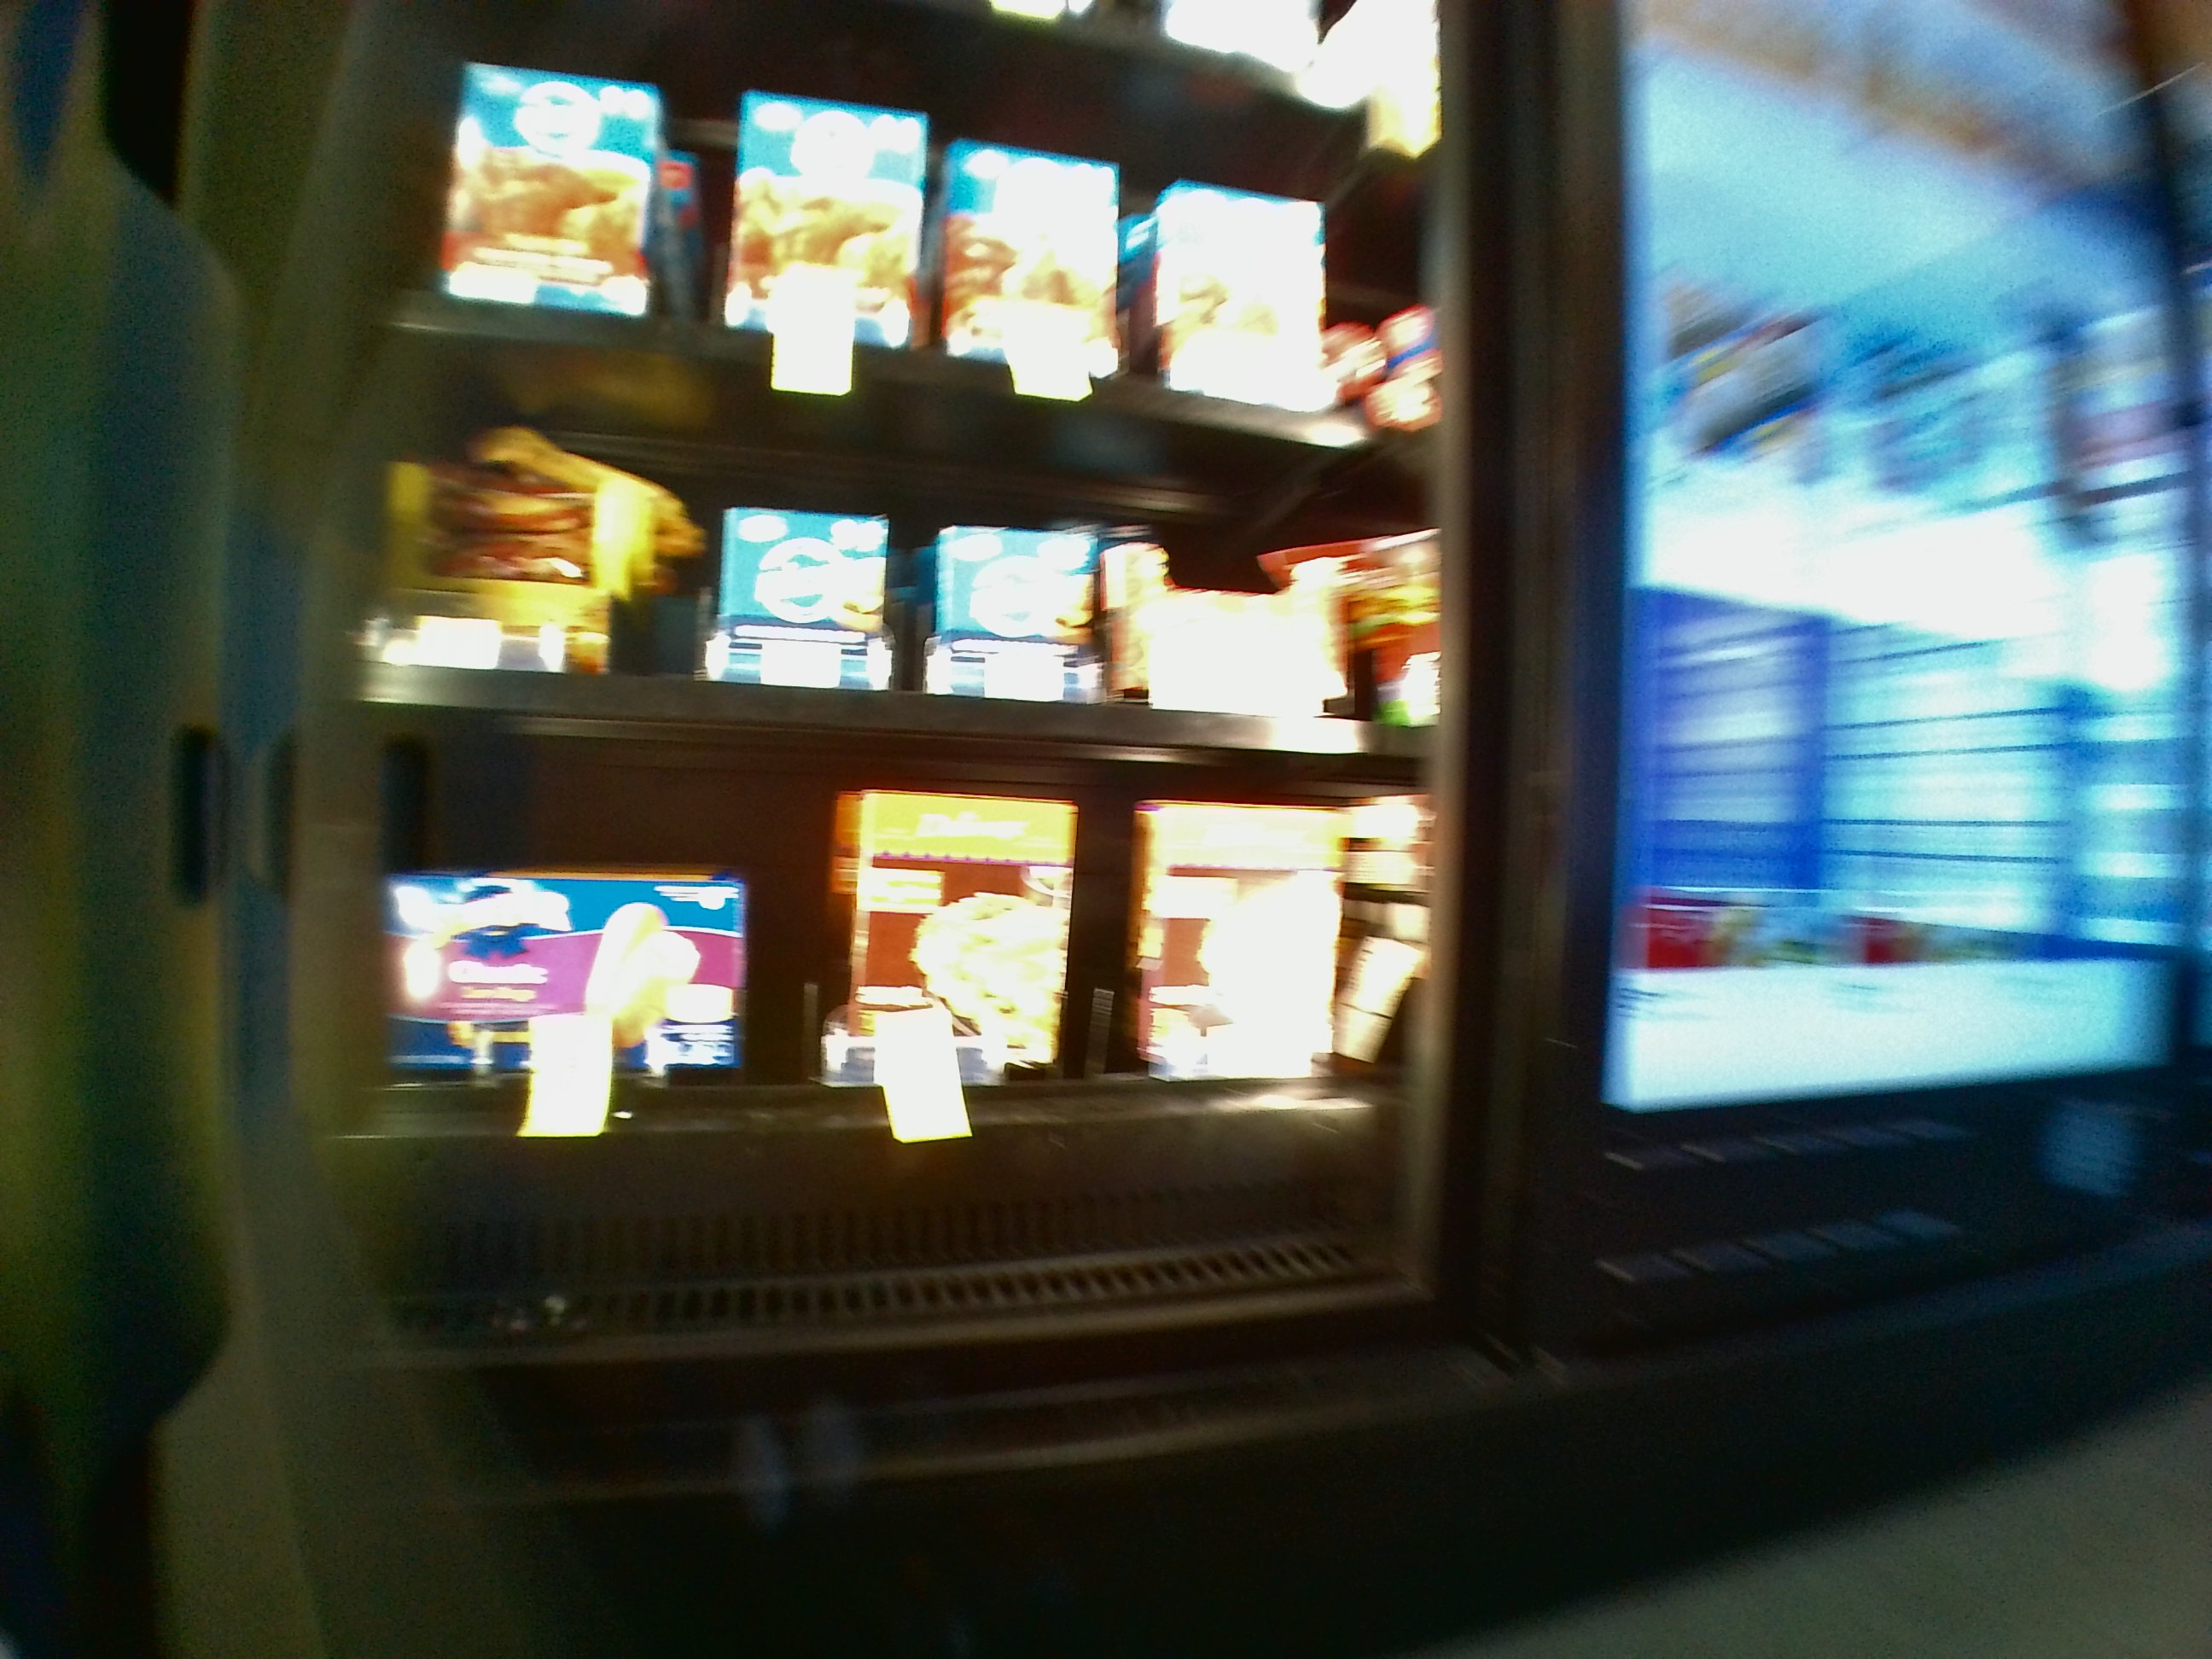shelf: (354, 774, 1425, 1270), (361, 335, 1423, 753)
